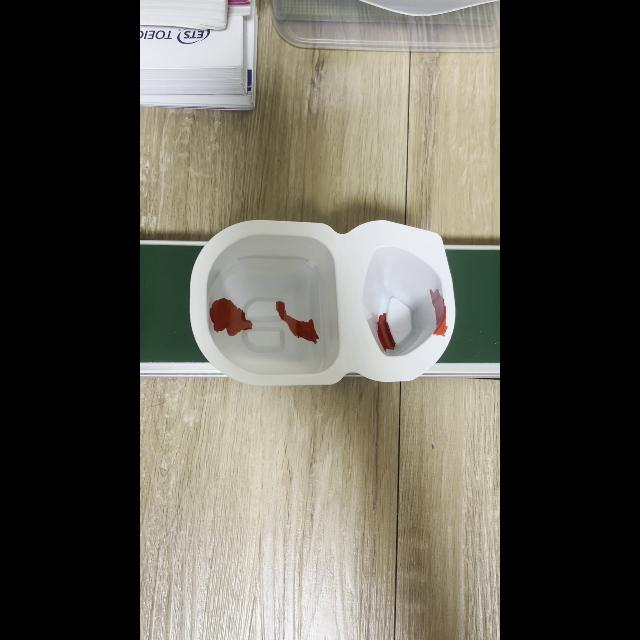dirty: (192, 220, 452, 384)
